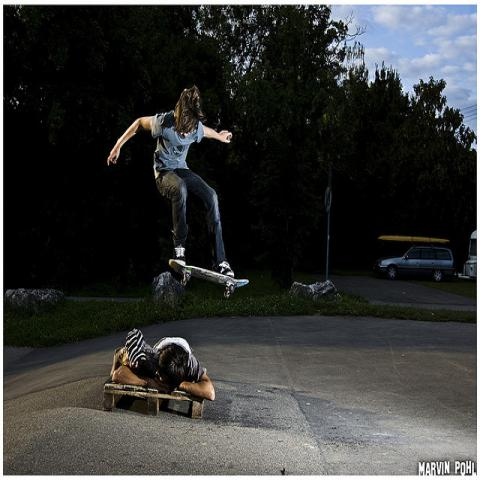bus: (378, 236, 450, 264)
car: (374, 239, 456, 282)
